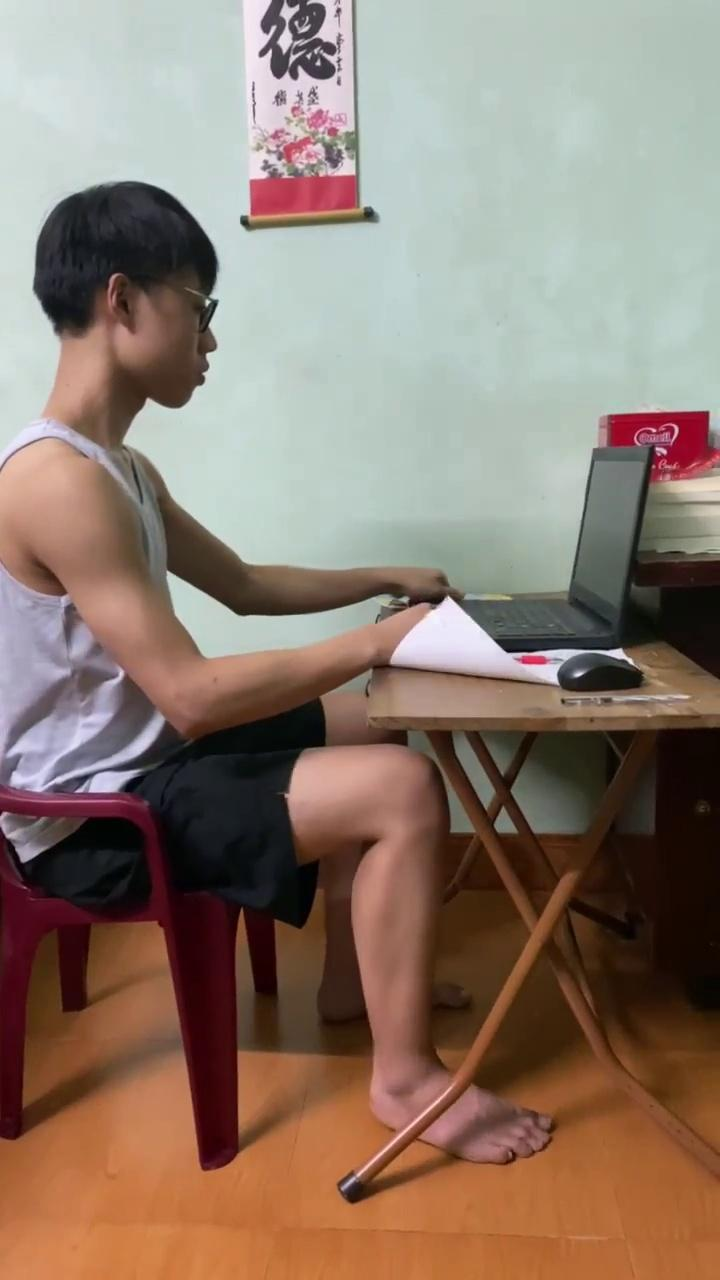GoodPosture: (0, 182, 469, 1128)
